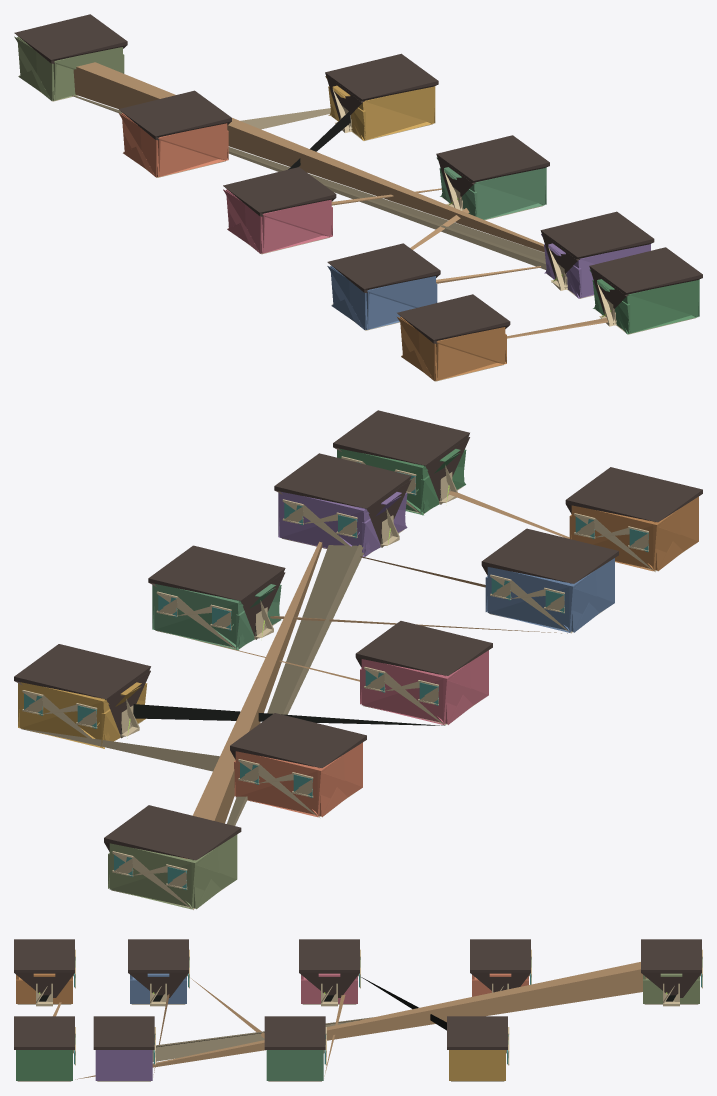
File: upward-editable-buildings.obj
3 renders of one model, top to bottom at view 1: azimuth 30°, elevation 25°; view 2: azimuth 150°, elevation 25°; view 3: azimuth 270°, elevation 25°, orthographic. The views are drawn at different scales.
Parts seen in each view (by area): view 1: library_shelves, home_sofa, home_roof, studio_roof, cafe_roof, greenway_roof, thrift_roof, market_roof, workshop_roof, gym_roof, library_roof, gym_back_wall (+14 smaller); view 2: home_sofa, home_roof, greenway_roof, cafe_roof, studio_roof, library_shelves, workshop_roof, market_roof, thrift_roof, library_roof, gym_roof, thrift_front_wall (+15 smaller); view 3: library_shelves, market_roof, thrift_roof, library_roof, workshop_roof, gym_roof, cafe_roof, home_roof, studio_roof, greenway_roof, cafe_wall_away_from_street, home_wall_away_from_street (+16 smaller).
Part boxes in pixels (left/top/right/bottom): library_shelves: left=73, top=62, right=544, bottom=252; home_sofa: left=71, top=95, right=546, bottom=269; home_roof: left=540, top=211, right=654, bottom=277; studio_roof: left=325, top=53, right=438, bottom=119; cafe_roof: left=436, top=135, right=549, bottom=200; greenway_roof: left=589, top=247, right=702, bottom=312; thrift_roof: left=223, top=167, right=336, bottom=216; market_roof: left=397, top=294, right=510, bottom=343; workshop_roof: left=327, top=243, right=440, bottom=293; gym_roof: left=118, top=90, right=231, bottom=140; library_roof: left=14, top=14, right=127, bottom=63; gym_back_wall: left=118, top=113, right=227, bottom=177; home_sofa: left=227, top=544, right=363, bottom=825; home_roof: left=274, top=453, right=411, bottom=544; greenway_roof: left=333, top=410, right=469, bottom=500; cafe_roof: left=148, top=545, right=285, bottom=636; studio_roof: left=14, top=644, right=150, bottom=734; library_shelves: left=179, top=541, right=322, bottom=859; workshop_roof: left=481, top=528, right=618, bottom=583; market_roof: left=565, top=467, right=702, bottom=522; thrift_roof: left=355, top=621, right=492, bottom=675; library_roof: left=104, top=805, right=241, bottom=860; gym_roof: left=230, top=713, right=366, bottom=767; thrift_front_wall: left=361, top=659, right=456, bottom=723; library_shelves: left=75, top=962, right=646, bottom=1079; market_roof: left=14, top=939, right=74, bottom=997; thrift_roof: left=299, top=939, right=359, bottom=997; library_roof: left=641, top=939, right=701, bottom=997; workshop_roof: left=128, top=939, right=188, bottom=997; gym_roof: left=470, top=939, right=530, bottom=992; cafe_roof: left=264, top=1016, right=325, bottom=1049; home_roof: left=93, top=1016, right=154, bottom=1049; studio_roof: left=447, top=1016, right=507, bottom=1049; greenway_roof: left=14, top=1016, right=74, bottom=1049; cafe_wall_away_from_street: left=266, top=1050, right=323, bottom=1080; home_wall_away_from_street: left=95, top=1050, right=152, bottom=1080.
Size of the model in its own units: 22.35 by 3.51 by 60.44.
